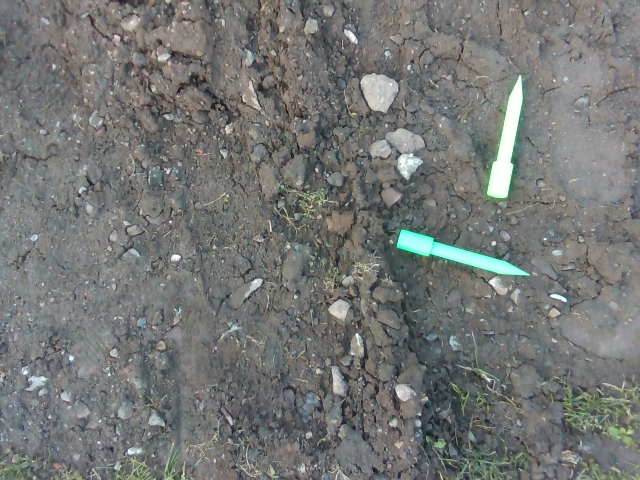Probe: (391, 225, 537, 281), (484, 71, 527, 202)
